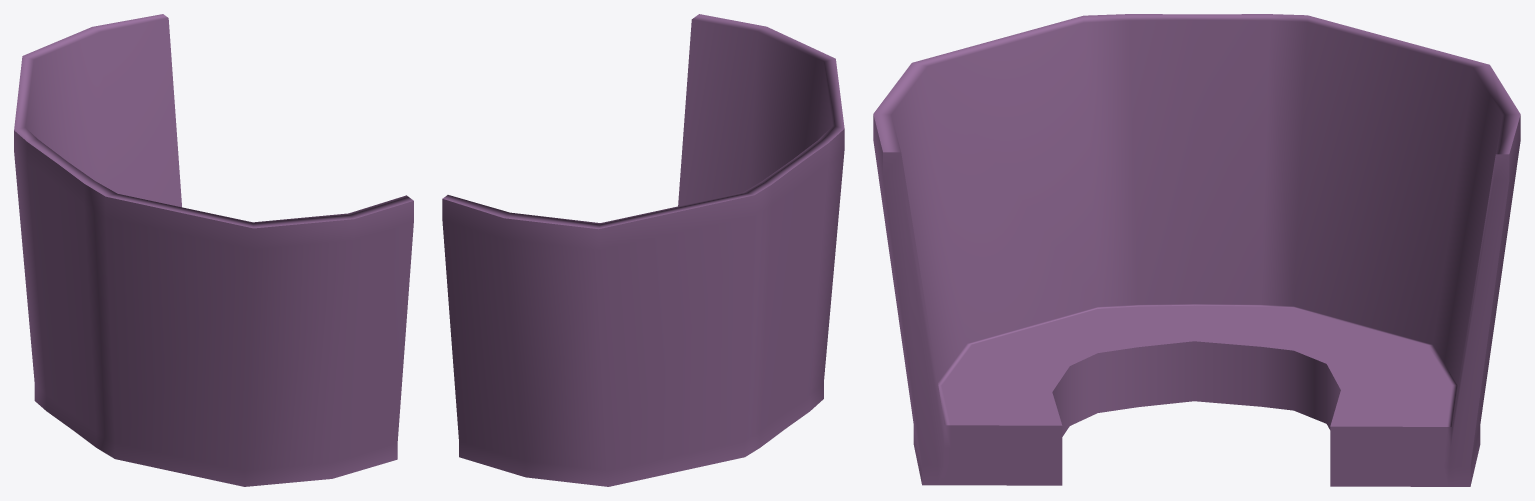
The model's file is frontStand.fbx.
The picture shows the model from 3 angles, left to right: view 1: azimuth 30°, elevation 25°; view 2: azimuth 150°, elevation 25°; view 3: azimuth 270°, elevation 25°; orthographic projection. The views are drawn at different scales.
Parts seen in each view (by area): view 1: FrontStand; view 2: FrontStand; view 3: FrontStand.
Part boxes in pixels (x1,y1,x2,y2): FrontStand: [14, 14, 413, 486]; FrontStand: [442, 14, 844, 486]; FrontStand: [873, 14, 1520, 486].
Size of the model in its own units: 1843 by 2042 by 3595.
